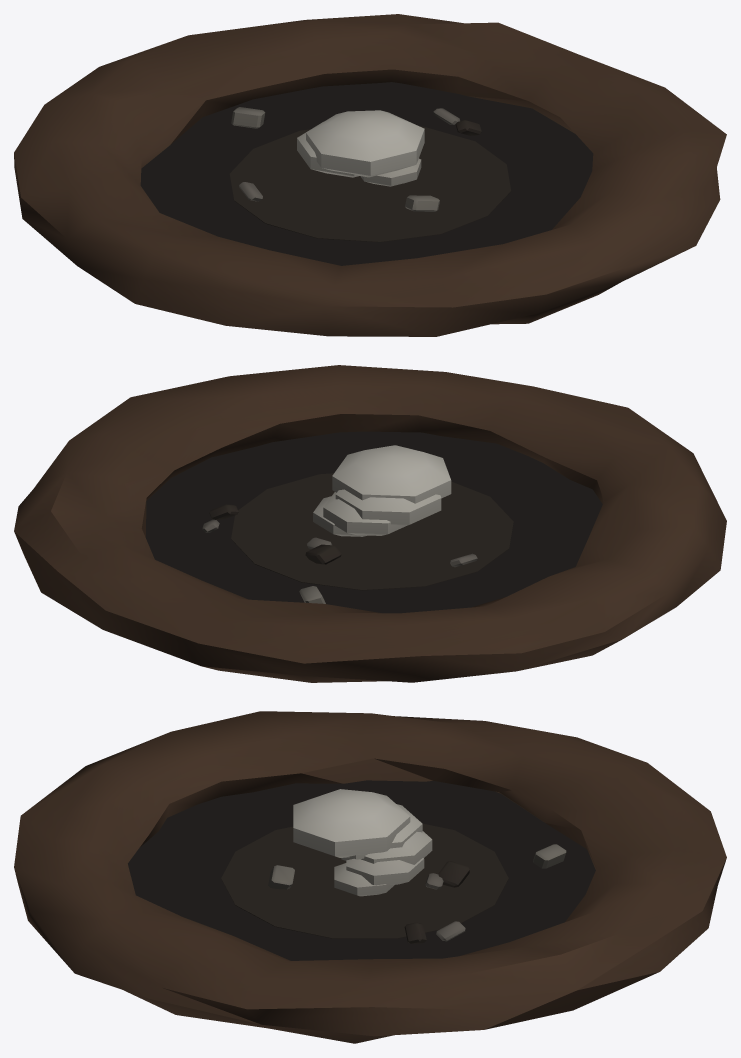
The model's file is 394_cratere.fbx.
The picture shows the model from 3 angles, top to bottom: view 1: azimuth 30°, elevation 25°; view 2: azimuth 150°, elevation 25°; view 3: azimuth 270°, elevation 25°; orthographic projection.
Parts seen in each view (by area): view 1: Cratere, Rochers; view 2: Cratere, Rochers; view 3: Cratere, Rochers.
Part boxes in pixels (x1,y1,x2,y2): Cratere: (14,14,726,336); Rochers: (231,107,481,211); Cratere: (14,365,726,682); Rochers: (202,504,477,603); Cratere: (14,711,726,1043); Rochers: (268,844,566,943).
Size of the model in its own units: 5.6 by 0.84 by 5.6.
1 material, 1 textured.
